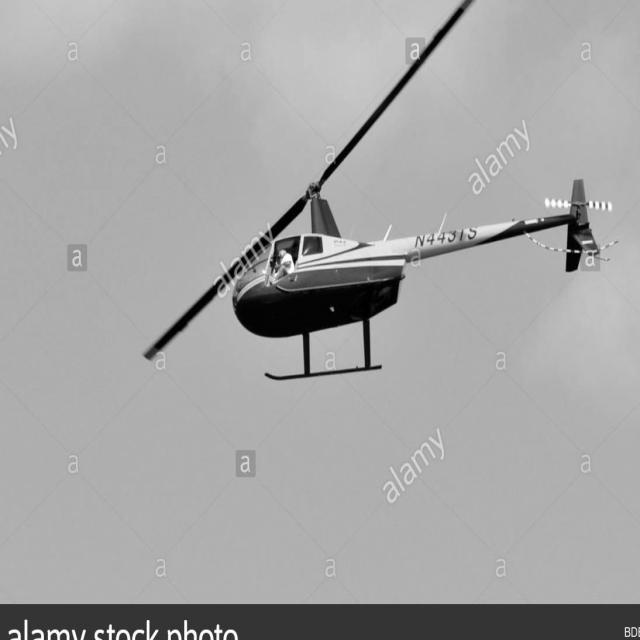helicopter: (150, 1, 614, 382)
